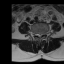CCS_stenosis: (39, 32, 40, 40)
LFS_severe_stenosis: (42, 31, 44, 37)
LLS_stenosis: (40, 32, 42, 38)
RFS_normal: (35, 31, 37, 37)
RLS_normal: (37, 32, 39, 38)
